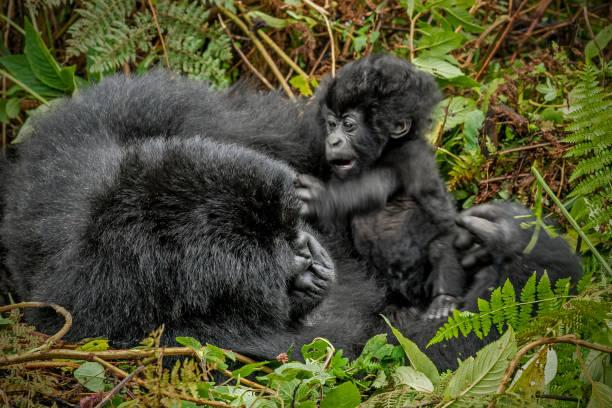goriile_montagne: (12, 82, 363, 383), (306, 55, 487, 318)
